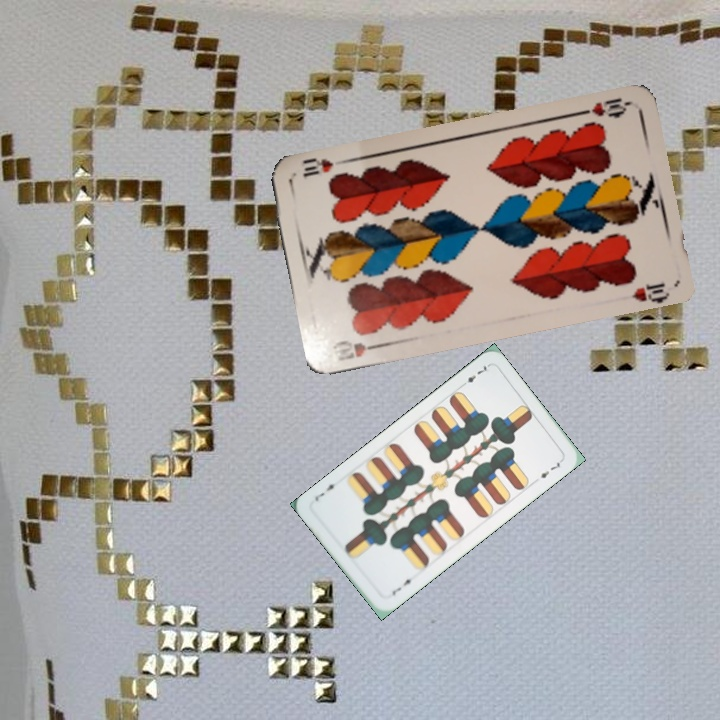E7: (457, 361, 491, 390), (388, 573, 418, 598)
H10: (574, 94, 633, 121), (332, 338, 386, 364)
